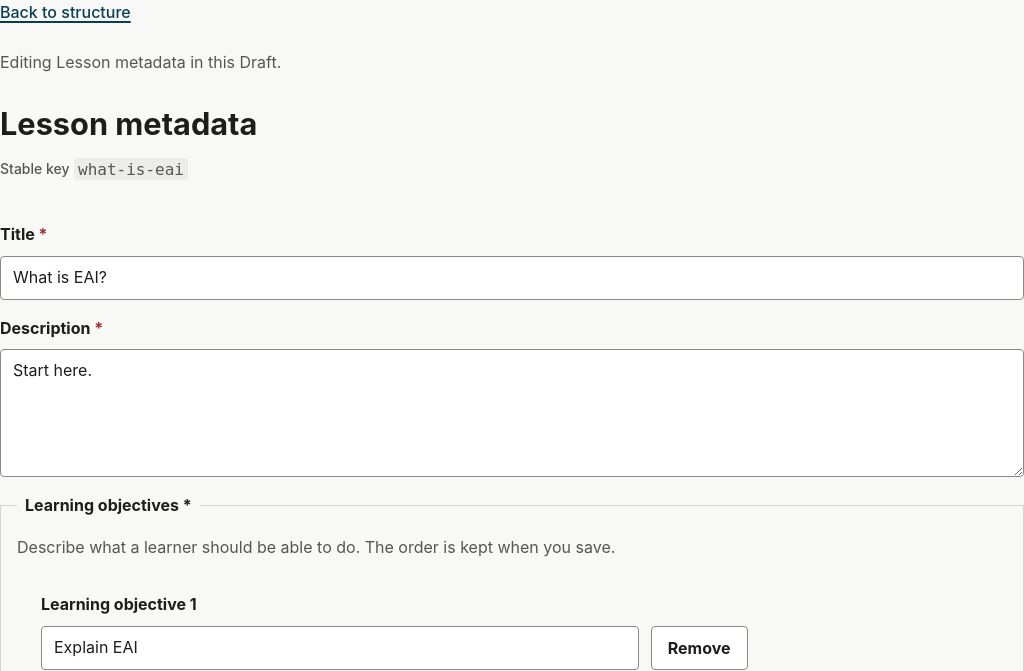
Test: AuthoringDraftLessonPage › keeps Save disabled for unchanged and reverted values and reports local duration validation
The image size is (1024, 671).
Replace the text in the field labelled "Title *" with "Temporary" at x=512, y=278, box [0,256,1023,300]
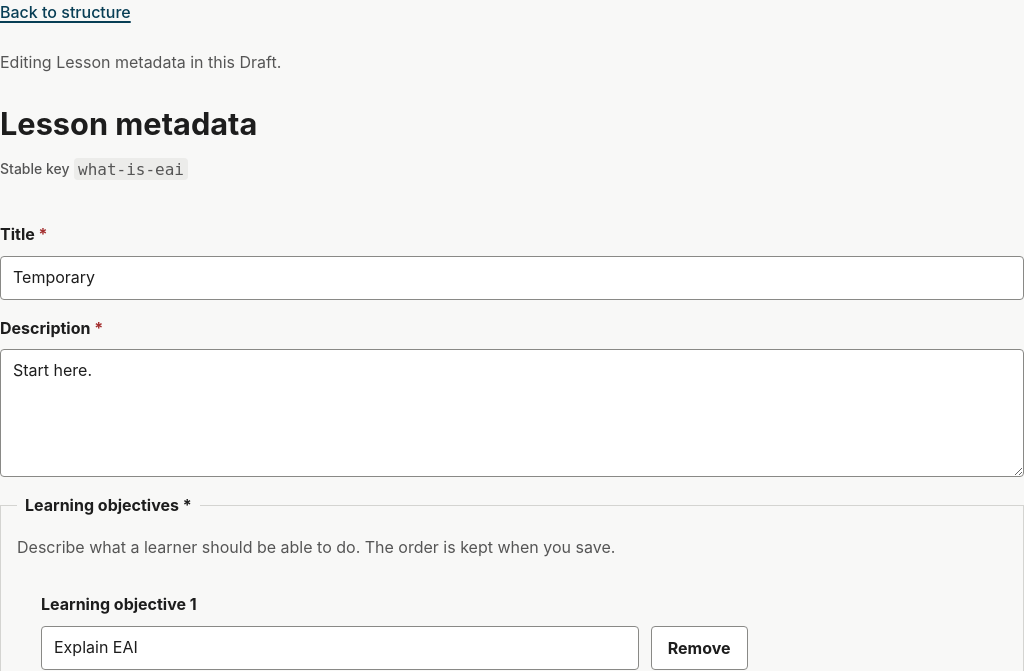
Replace the text in the field labelled "Title *" with "What is EAI?" at x=512, y=278, box [0,256,1023,300]
(page scrolled)
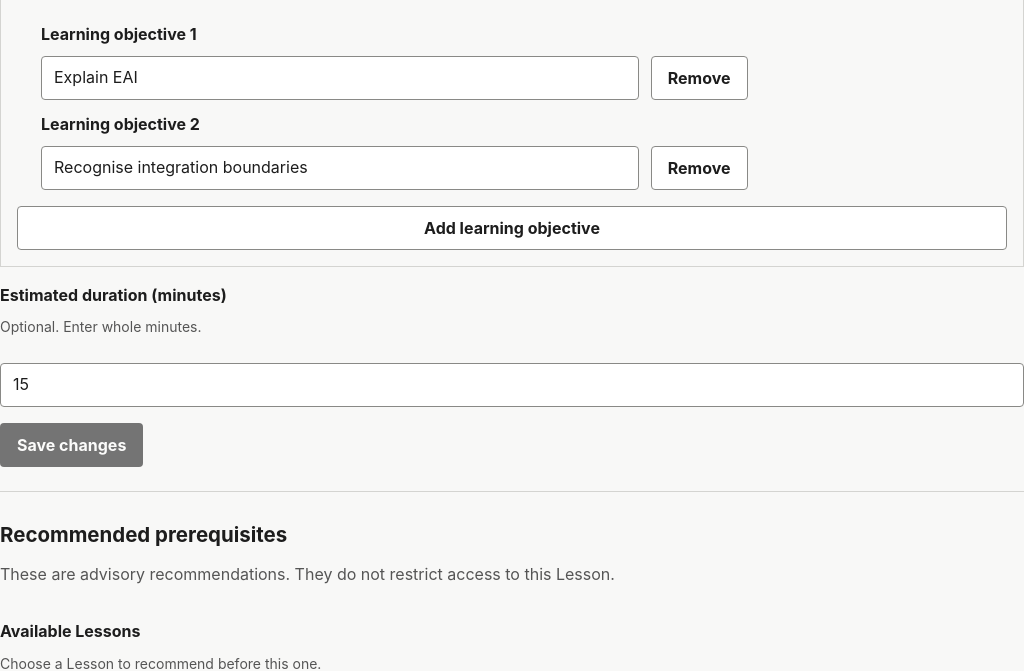
Expected: the button "Save changes" is disabled, [0,422,143,466]
Replace the text in the number field labelled "Estimated duration (minutes)" with "0" at x=512, y=384, box [0,362,1023,406]
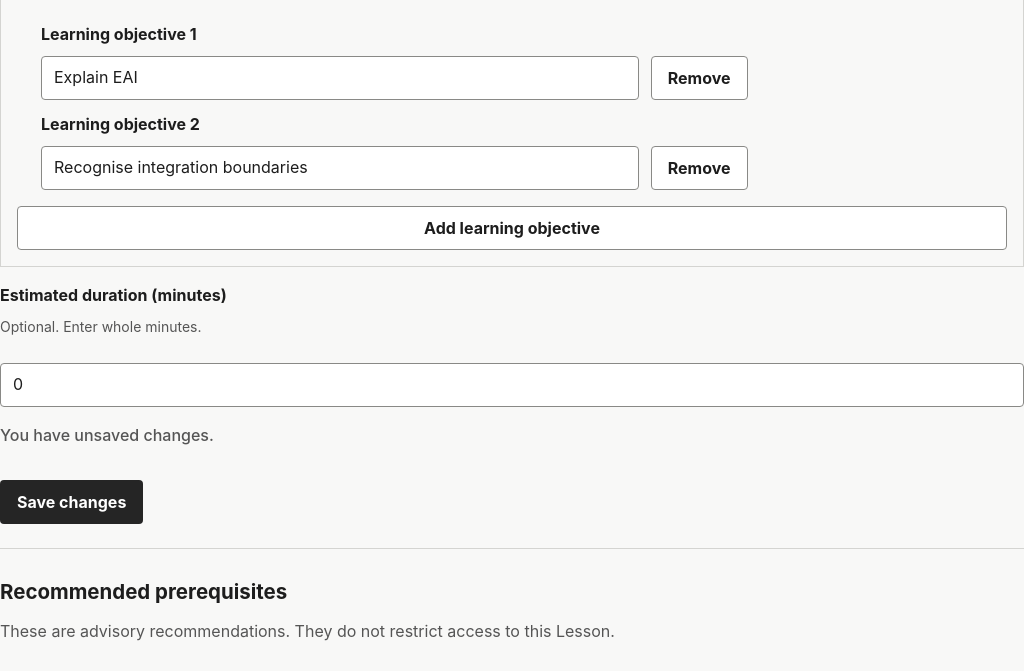
Click the button "Save changes" at x=72, y=502, box [0,480,143,524]
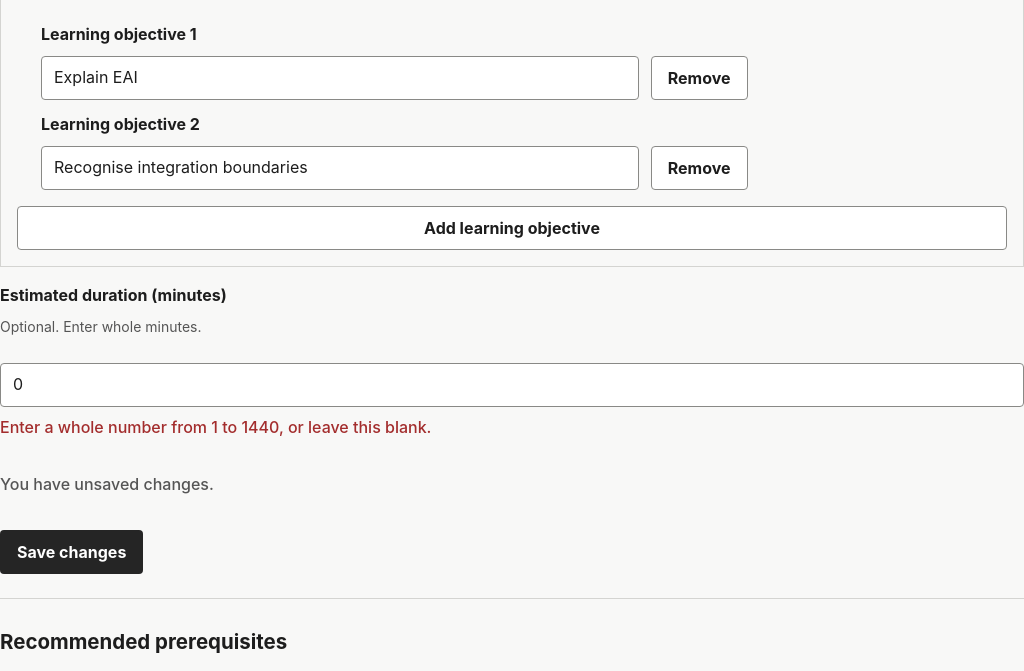
Expected: the text "Enter a whole number from 1 to 1440, or leave this blank." is shown, [0,416,432,436]
